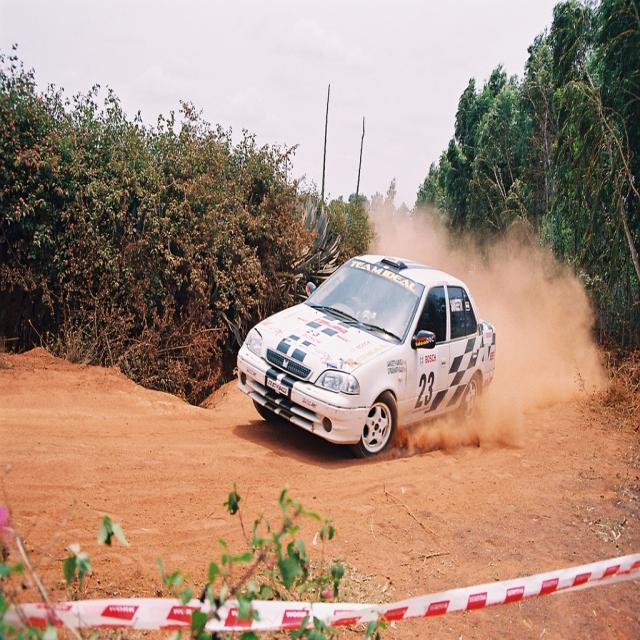car: (234, 249, 499, 459)
